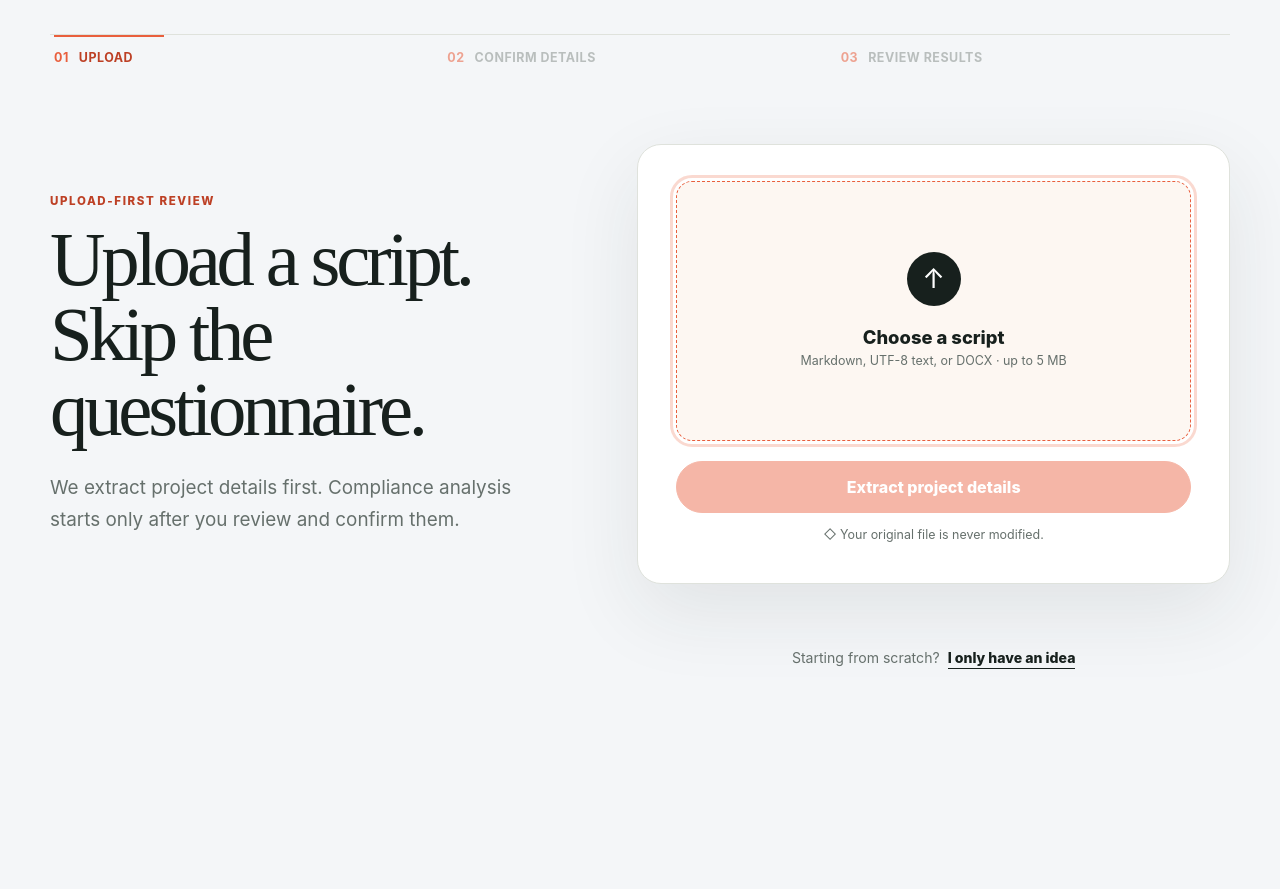
upload-first review flow › opens blank manual fields for the idea-only path
This screenshot has width=1280, height=889.
Click the button "I only have an idea". click: (1012, 658)
box: [948,647,1076,669]
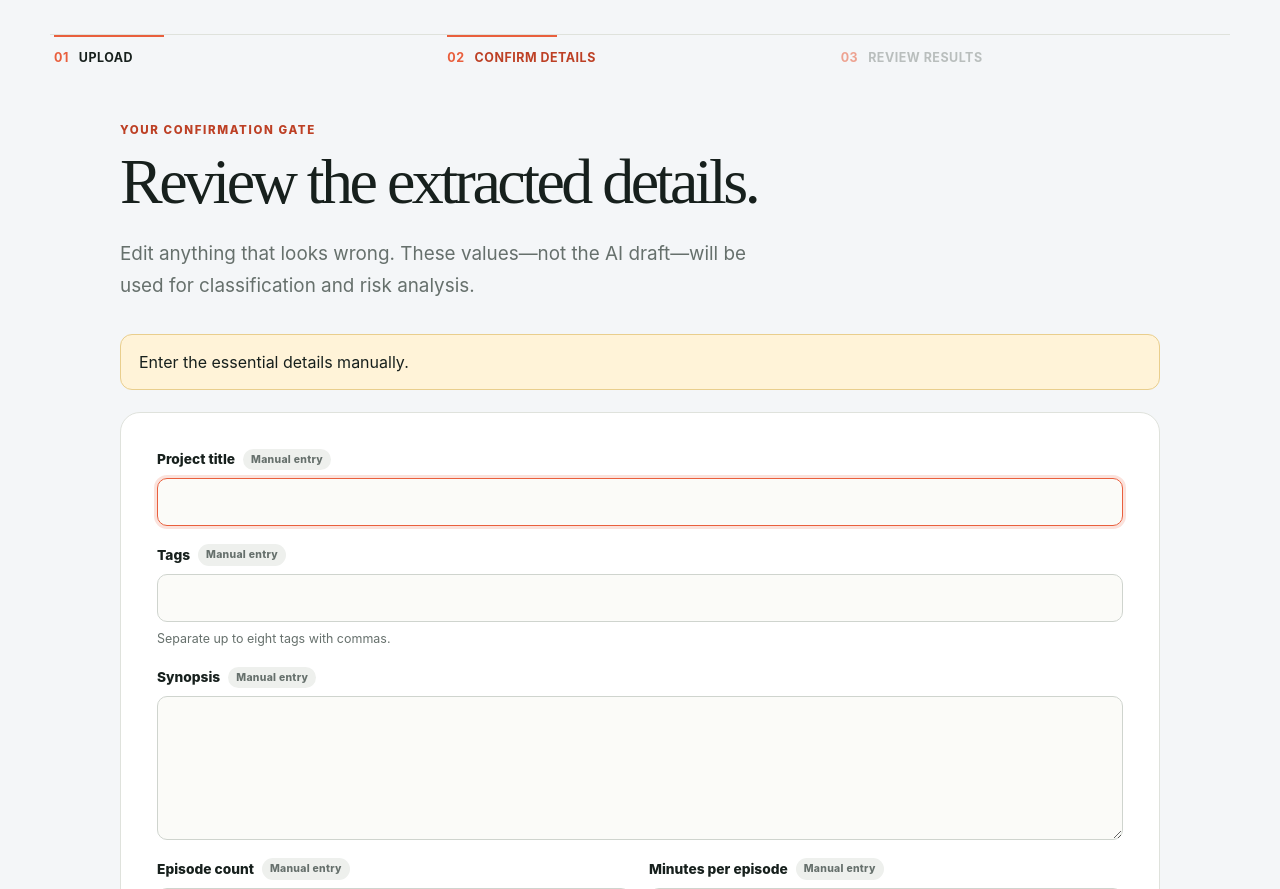
Expected: the field labelled "Project title" is empty, [157,478,1123,526]
Expected: the text "Enter the essential details manually." is shown, [120,334,1160,390]
